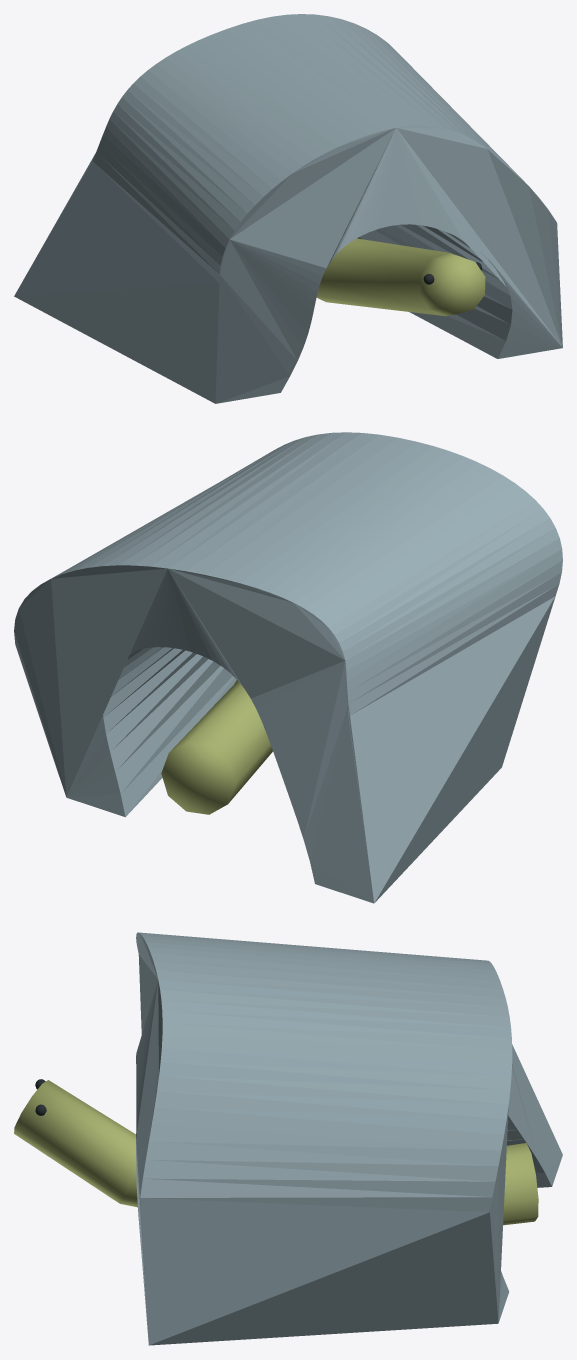
File: underwater-reef-worlds-moray-eel-73fafa1c__7073.glb
The picture shows the model from 3 angles, top to bottom: view 1: azimuth 30°, elevation 25°; view 2: azimuth 150°, elevation 25°; view 3: azimuth 270°, elevation 25°; orthographic projection. The views are drawn at different scales.
Parts seen in each view (by area): view 1: moray-eel; view 2: moray-eel; view 3: moray-eel.
Part boxes in pixels (box(x1,y1,x2,y2)): moray-eel: box(14, 14, 562, 403); moray-eel: box(14, 432, 562, 903); moray-eel: box(14, 932, 562, 1345).
Bounding box in the file's own units: 0.9304 × 0.6212 × 1.1.
